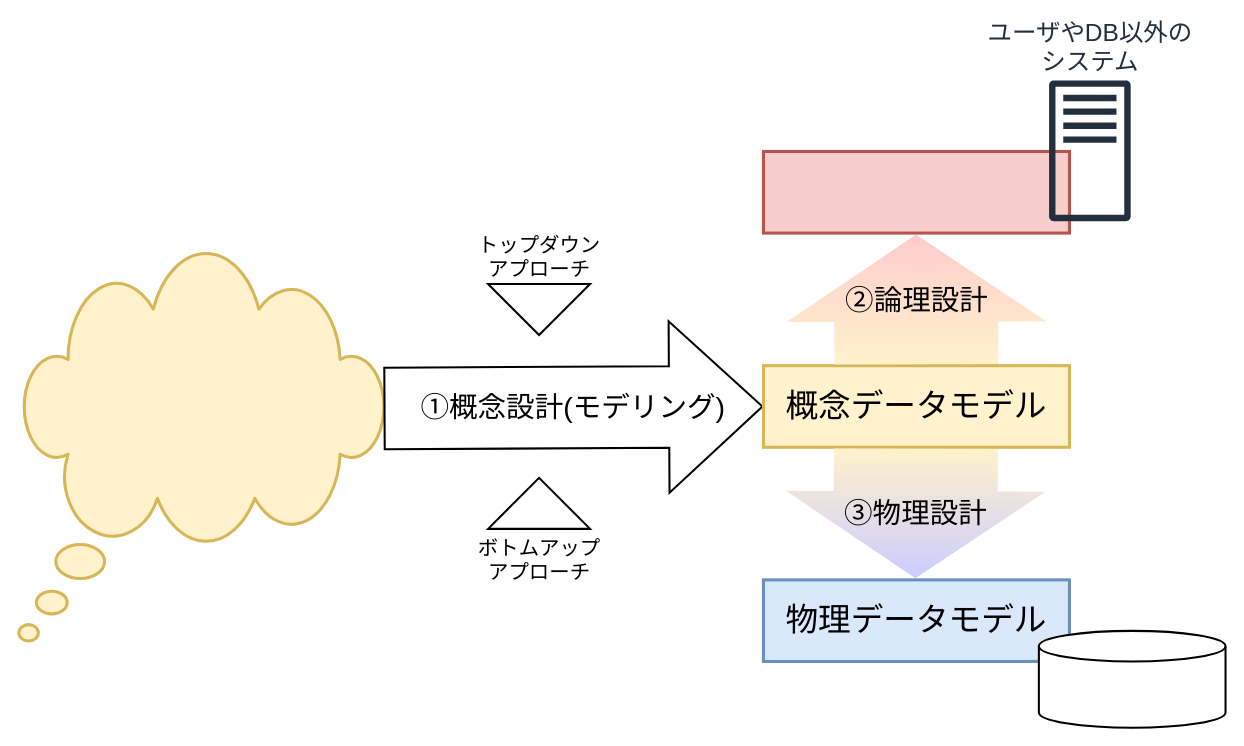
Image size: 1244x746. Some labels were removed from this diagram. Here are the shapes that lost their labels. From the top down, the centre of each, then its label:
(915,191): 論理データモデル
(202,446): 現実世界
(1131,678): DBMSや ハードウェア
